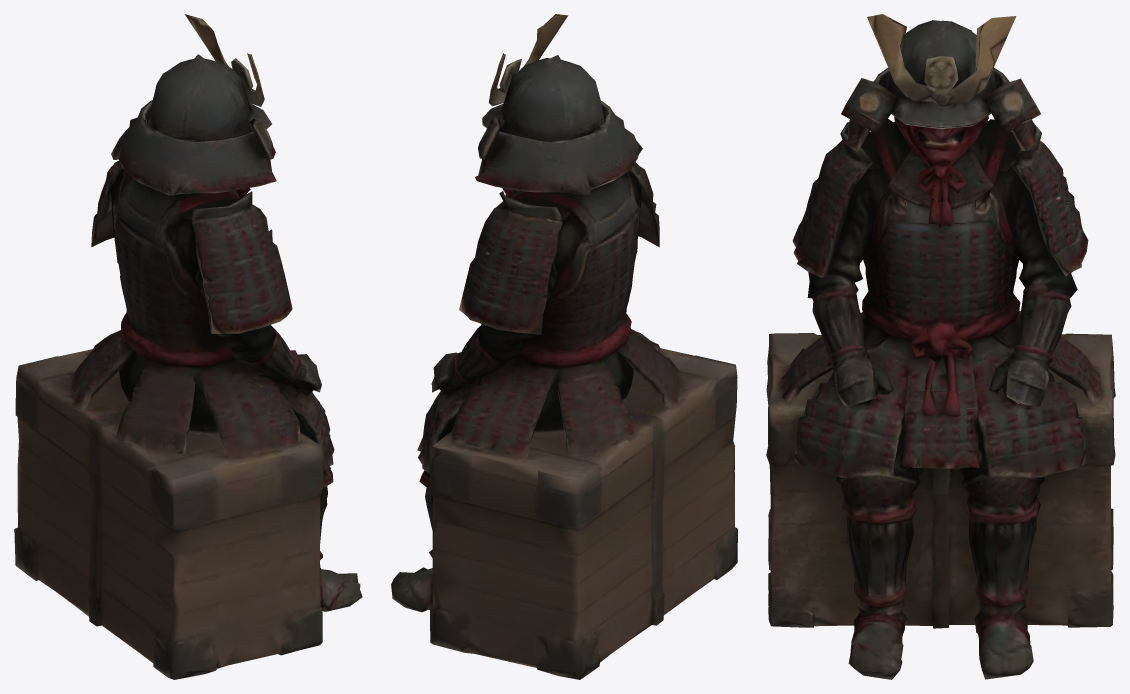
File: yoroi.glb
3 views of the same model, side by side, from view 1: azimuth 30°, elevation 25°; view 2: azimuth 150°, elevation 25°; view 3: azimuth 270°, elevation 25° (orthographic). The views are drawn at different scales.
Visible parts, largest first — view 1: tripo_node_dbb27a74-3ace-4f4e-80b4-79f9d6d76fd4; view 2: tripo_node_dbb27a74-3ace-4f4e-80b4-79f9d6d76fd4; view 3: tripo_node_dbb27a74-3ace-4f4e-80b4-79f9d6d76fd4.
Part boxes in pixels (box(x1,y1,x2,y2)): tripo_node_dbb27a74-3ace-4f4e-80b4-79f9d6d76fd4: box(14, 14, 362, 679); tripo_node_dbb27a74-3ace-4f4e-80b4-79f9d6d76fd4: box(391, 14, 737, 679); tripo_node_dbb27a74-3ace-4f4e-80b4-79f9d6d76fd4: box(766, 14, 1115, 679).
Bounding box in the file's own units: 0.4477 × 1 × 0.519.
Materials: 1 (1 with a texture image).
